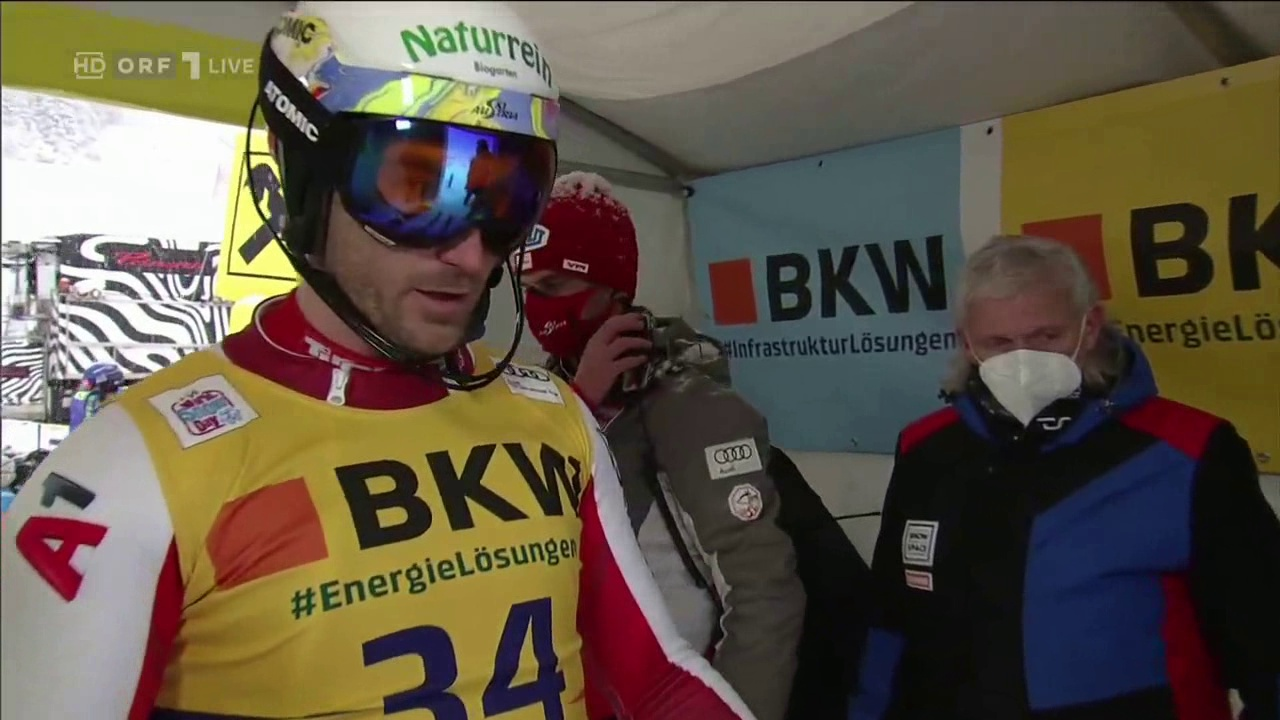BKW: (697, 235, 959, 352)
a1: (13, 470, 110, 600)
audi: (706, 440, 760, 475)
